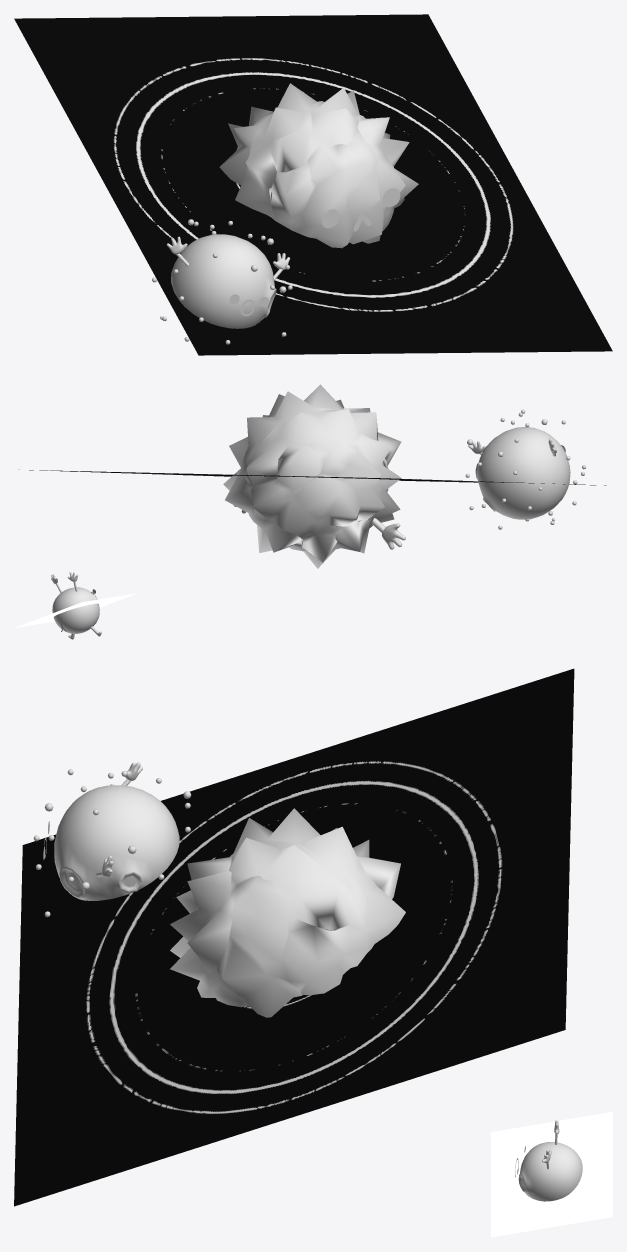
The model's file is star.fbx.
3 renders of one model, top to bottom at view 1: azimuth 30°, elevation 25°; view 2: azimuth 150°, elevation 25°; view 3: azimuth 270°, elevation 25°, orthographic. The views are drawn at different scales.
Visible parts, largest first — view 1: circle, Cube.075, Cube.081, Plane.021, Cube.088; view 2: Cube.075, Cube.081, Cube.073, circle, circle2, Cube.088, Cube.080; view 3: circle, Cube.075, Cube.081, circle2, Cube.073.
Boxes of the visible parts, x1,y1,x2,y2 form: circle: (14,14,612,355); Cube.075: (219,83,418,248); Cube.081: (171,234,276,328); Plane.021: (321,188,400,231); Cube.088: (152,219,292,344); Cube.075: (223,384,401,568); Cube.081: (475,427,570,519); Cube.073: (52,587,99,633); circle: (19,469,606,485); circle2: (15,593,136,627); Cube.088: (465,409,585,529); Cube.080: (234,505,405,549); circle: (14,668,574,1206); Cube.075: (170,808,405,1017); Cube.081: (54,785,179,900); circle2: (491,1111,612,1237); Cube.073: (518,1142,582,1201).
Bounding box in the file's own units: 738 × 434 × 691.
